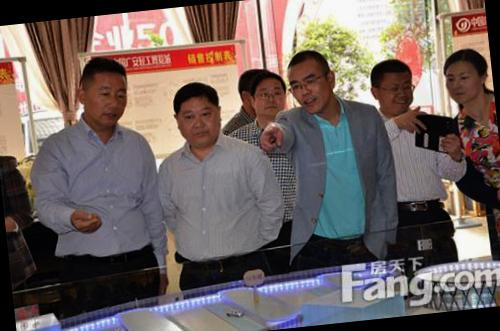no_helmet: (70, 47, 136, 131), (163, 77, 225, 153), (279, 45, 338, 115), (364, 51, 421, 118), (435, 44, 492, 108), (239, 65, 288, 122)
